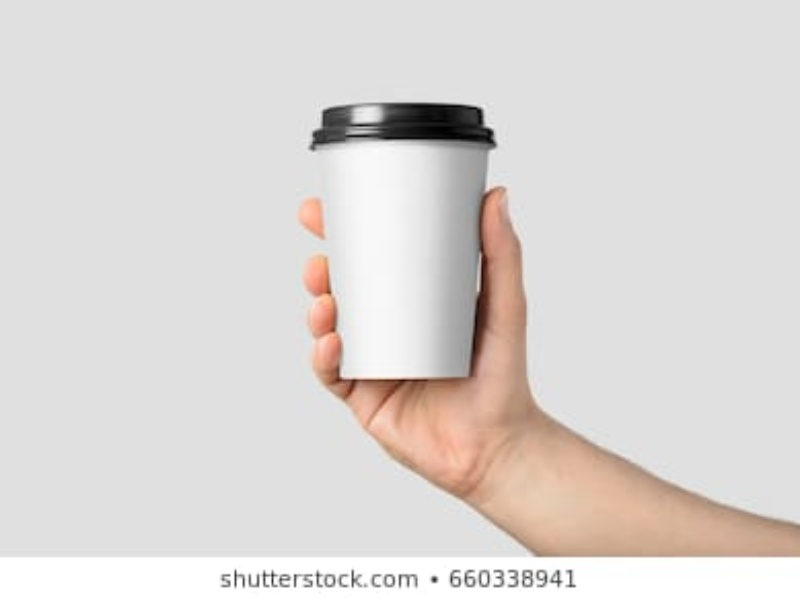coffee-lid: (303, 101, 497, 153)
plastic-cup: (301, 99, 493, 384)
